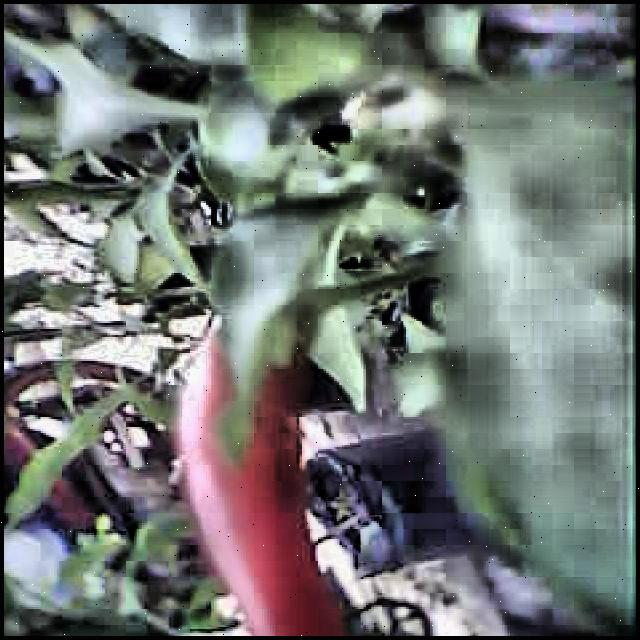Cabai: (149, 324, 370, 636)
